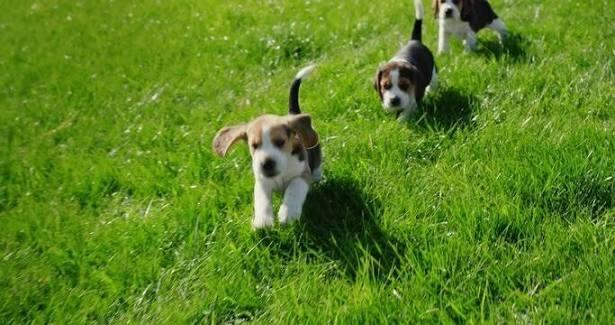puppy-dog: (212, 63, 325, 234), (372, 0, 439, 120), (430, 0, 511, 60)
